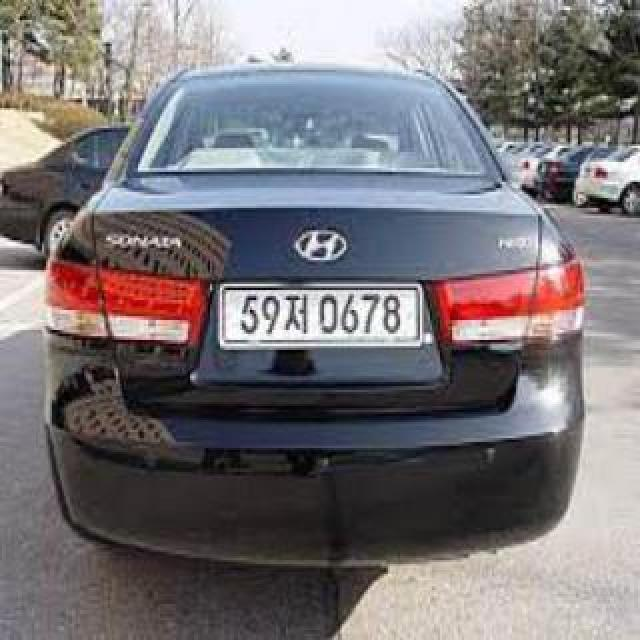car: (36, 51, 594, 584)
illegal_plate: (215, 280, 424, 356)
